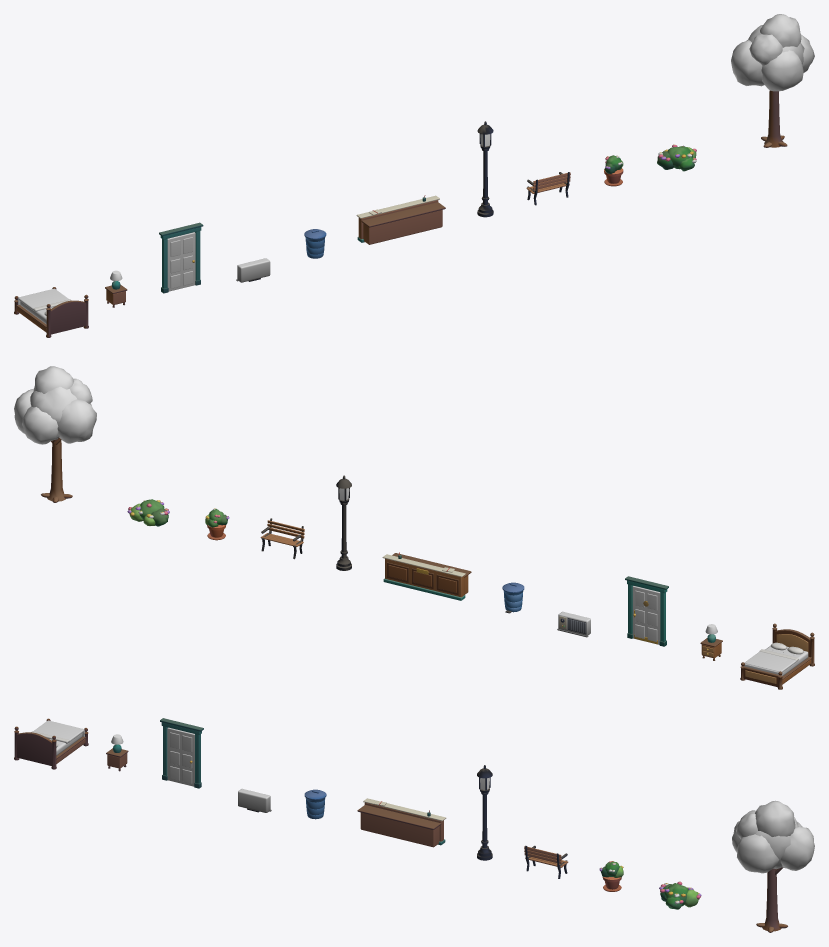
Rendered from motel_kit_batch1.fbx.
The picture shows the model from 3 angles, top to bottom: view 1: azimuth 30°, elevation 25°; view 2: azimuth 150°, elevation 25°; view 3: azimuth 330°, elevation 25°; orthographic projection.
Visible parts, largest first — view 1: SM_Veg_RoundTree_Canopy, SM_Prop_FrontDesk, SM_Prop_Bed_Frame, SM_Prop_Door_Leaf, SM_Prop_Door_Frame, SM_Prop_FlowerBush, SM_Veg_RoundTree_Trunk, SM_Prop_LampPost, SM_Prop_Bench, SM_Prop_AC_Body, SM_Prop_Bed_Blanket; view 2: SM_Veg_RoundTree_Canopy, SM_Prop_FrontDesk, SM_Prop_Bed_Frame, SM_Prop_Door_Leaf, SM_Prop_Door_Frame, SM_Prop_Bench, SM_Prop_FlowerBush, SM_Veg_RoundTree_Trunk, SM_Prop_Bed_Blanket, SM_Prop_LampPost; view 3: SM_Veg_RoundTree_Canopy, SM_Prop_FrontDesk, SM_Prop_Bed_Frame, SM_Prop_Door_Leaf, SM_Prop_Door_Frame, SM_Prop_FlowerBush, SM_Veg_RoundTree_Trunk, SM_Prop_LampPost, SM_Prop_Bench, SM_Prop_AC_Body, SM_Prop_Bed_Blanket, SM_Prop_PottedPlant (+2 smaller).
Boxes of the visible parts, left/top/right/bottom form: SM_Veg_RoundTree_Canopy: left=731, top=14, right=814, bottom=91; SM_Prop_FrontDesk: left=356, top=195, right=445, bottom=244; SM_Prop_Bed_Frame: left=14, top=287, right=88, bottom=337; SM_Prop_Door_Leaf: left=167, top=232, right=195, bottom=291; SM_Prop_Door_Frame: left=159, top=222, right=203, bottom=293; SM_Prop_FlowerBush: left=657, top=144, right=696, bottom=171; SM_Veg_RoundTree_Trunk: left=761, top=90, right=787, bottom=147; SM_Prop_LampPost: left=477, top=121, right=493, bottom=217; SM_Prop_Bench: left=526, top=172, right=570, bottom=205; SM_Prop_AC_Body: left=236, top=258, right=270, bottom=282; SM_Prop_Bed_Blanket: left=17, top=288, right=69, bottom=310; SM_Veg_RoundTree_Canopy: left=14, top=366, right=96, bottom=444; SM_Prop_FrontDesk: left=382, top=552, right=471, bottom=600; SM_Prop_Bed_Frame: left=740, top=623, right=814, bottom=689; SM_Prop_Door_Leaf: left=632, top=586, right=660, bottom=644; SM_Prop_Door_Frame: left=625, top=576, right=668, bottom=646; SM_Prop_Bench: left=260, top=518, right=304, bottom=559; SM_Prop_FlowerBush: left=127, top=499, right=169, bottom=526; SM_Veg_RoundTree_Trunk: left=41, top=437, right=72, bottom=502; SM_Prop_Bed_Blanket: left=744, top=651, right=796, bottom=674; SM_Prop_LampPost: left=336, top=475, right=351, bottom=570; SM_Veg_RoundTree_Canopy: left=732, top=800, right=814, bottom=873; SM_Prop_FrontDesk: left=357, top=798, right=446, bottom=847; SM_Prop_Bed_Frame: left=14, top=718, right=88, bottom=769; SM_Prop_Door_Leaf: left=167, top=727, right=194, bottom=786; SM_Prop_Door_Frame: left=160, top=718, right=203, bottom=788; SM_Prop_FlowerBush: left=659, top=881, right=701, bottom=909; SM_Veg_RoundTree_Trunk: left=756, top=867, right=787, bottom=932; SM_Prop_LampPost: left=477, top=765, right=492, bottom=860; SM_Prop_Bench: left=524, top=845, right=568, bottom=878; SM_Prop_AC_Body: left=238, top=788, right=271, bottom=812; SM_Prop_Bed_Blanket: left=33, top=720, right=84, bottom=742; SM_Prop_PottedPlant: left=599, top=861, right=623, bottom=891.
Bounding box in the file's own units: 106 × 17.8 × 9.73.
